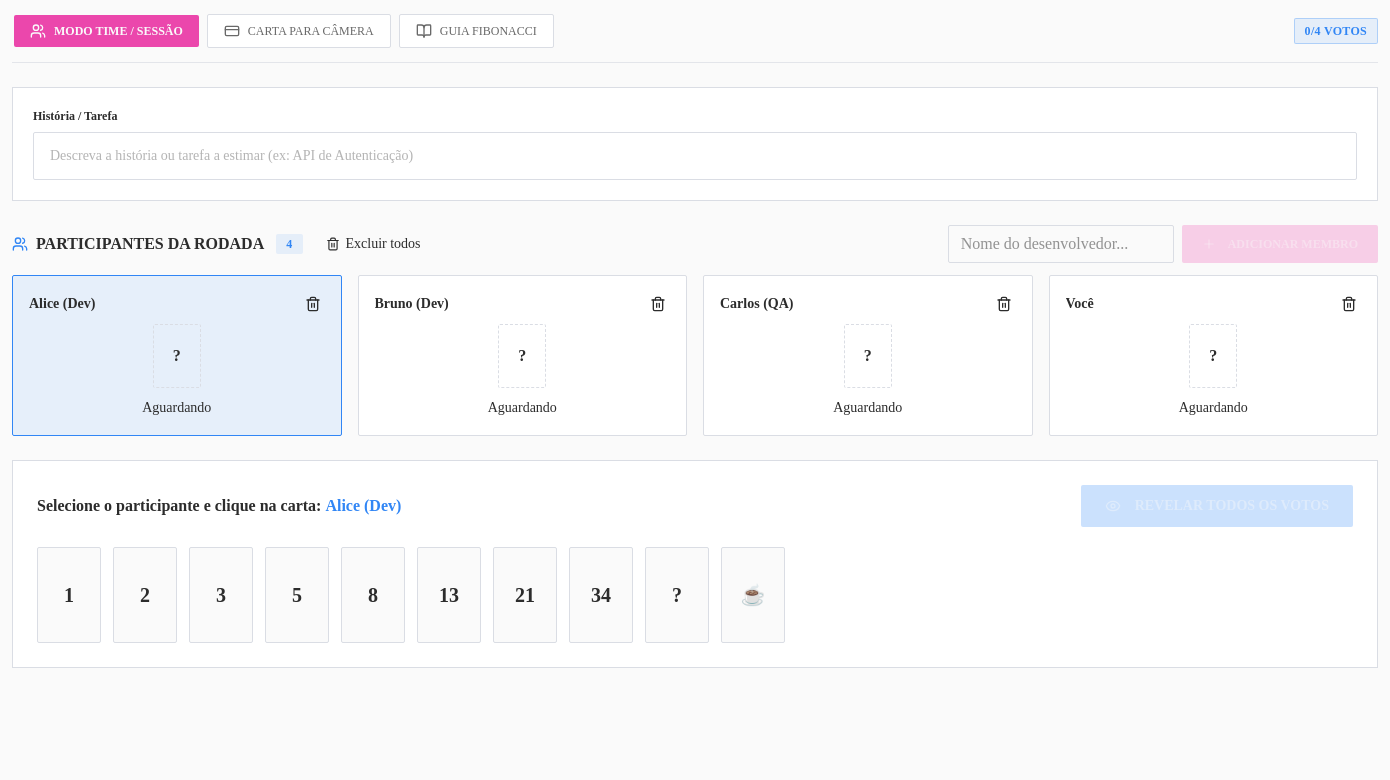
Scenario: Agile Tools Integration Tests › PlanningPokerClient › allows team voting, reveals votes, and calculates statistics
Expected: the text "Participantes da Rodada" is shown, x1=36 y1=232 x2=264 y2=256
# Vote 5 for first participant (Alice)
What coordinates should you click on to do the following:
click the button "5"
I would click on:
 (297, 595)
Its box is x1=265 y1=547 x2=329 y2=643.
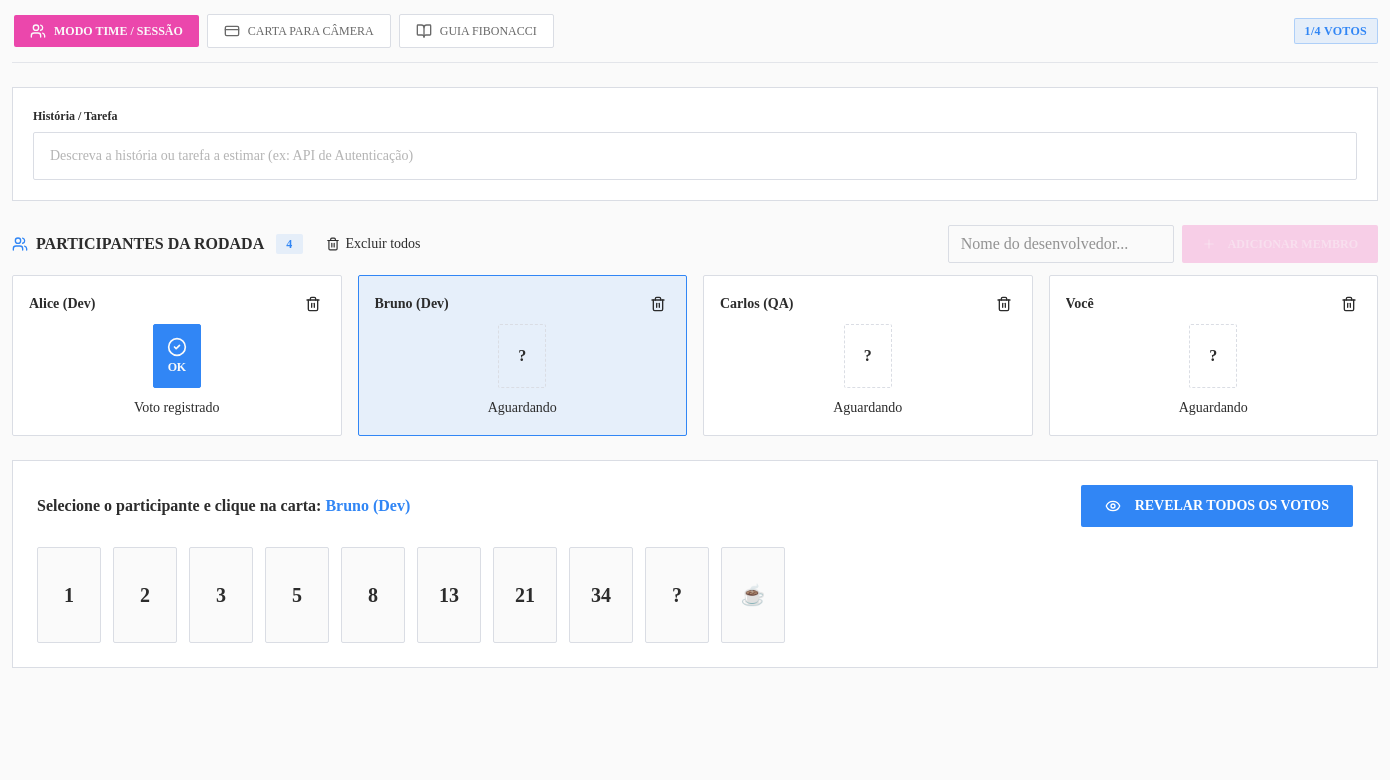
Expected: the button "Revelar Todos os Votos" is enabled
What coordinates should you click on to do the following:
click the button "Revelar Todos os Votos"
I would click on:
 (1217, 506)
Its box is x1=1081 y1=485 x2=1353 y2=527.
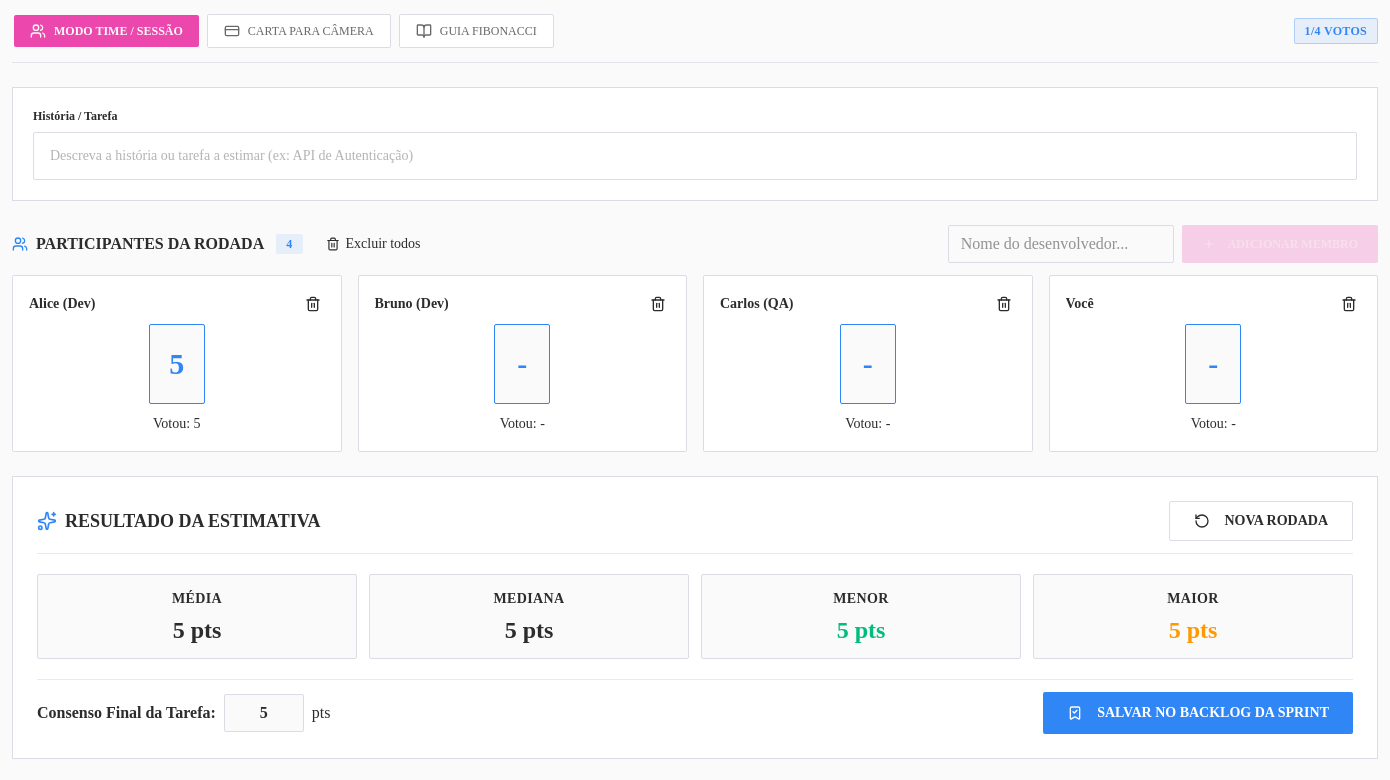
Expected: the heading "Resultado da Estimativa" is shown, x1=65 y1=507 x2=320 y2=535
